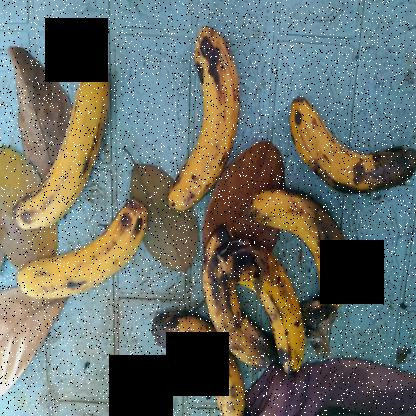overripe: (161, 16, 250, 224)
ripe: (11, 44, 118, 233), (13, 186, 150, 317)
rotten: (277, 80, 415, 222), (242, 163, 359, 305), (134, 300, 256, 415), (220, 238, 311, 376)
